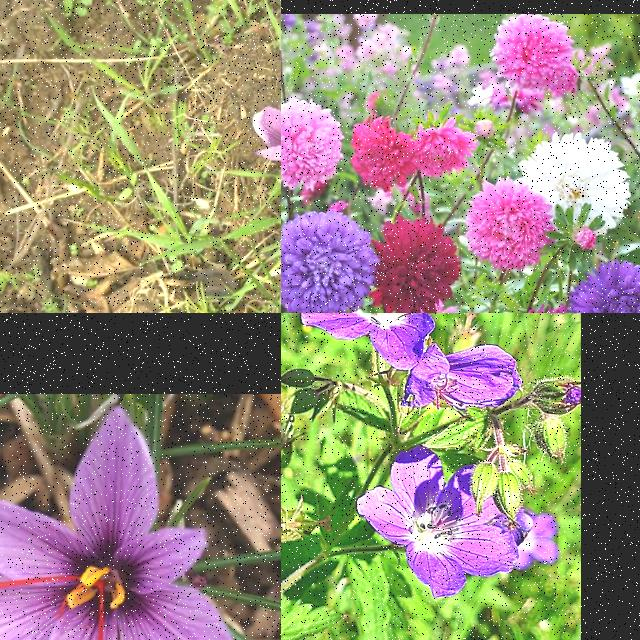flower: (0, 408, 238, 640), (252, 93, 281, 170)
